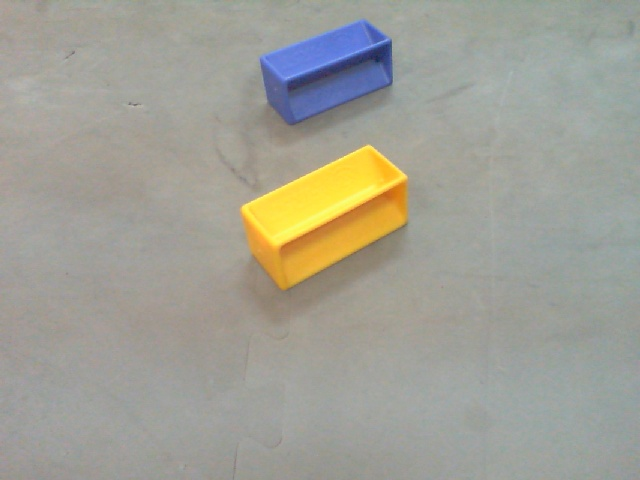BlueSample: (256, 18, 400, 126)
YellowSample: (237, 143, 409, 292)
